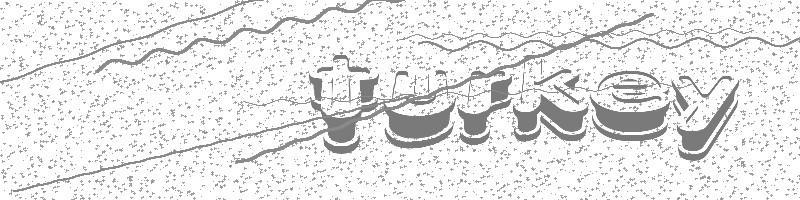e: (588, 69, 671, 139)
k: (512, 53, 589, 145)
r: (456, 66, 514, 146)
t: (306, 51, 383, 155)
u: (382, 67, 457, 149)
y: (670, 73, 742, 162)
